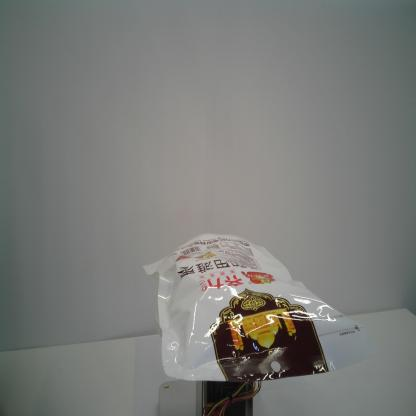Dried Food: (142, 232, 378, 383)
